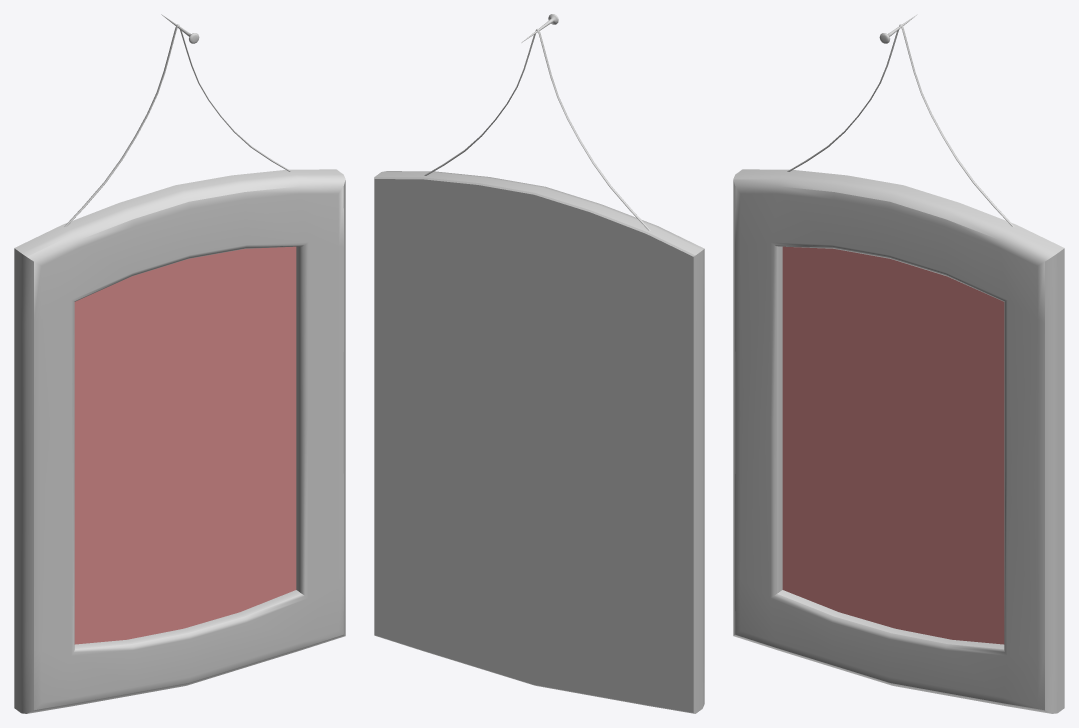
File: FamilyPainting_Texturing_01.fbx
3 renders of one model, left to right at view 1: azimuth 30°, elevation 25°; view 2: azimuth 150°, elevation 25°; view 3: azimuth 330°, elevation 25°, orthographic.
Visible parts, largest first — view 1: FamilyPainting_01; view 2: FamilyPainting_01; view 3: FamilyPainting_01.
Boxes of the visible parts, x1,y1,x2,y2 form: FamilyPainting_01: [14, 14, 345, 713]; FamilyPainting_01: [374, 14, 704, 713]; FamilyPainting_01: [733, 14, 1064, 713].
Size of the model in its own units: 22 by 43.06 by 4.06.
